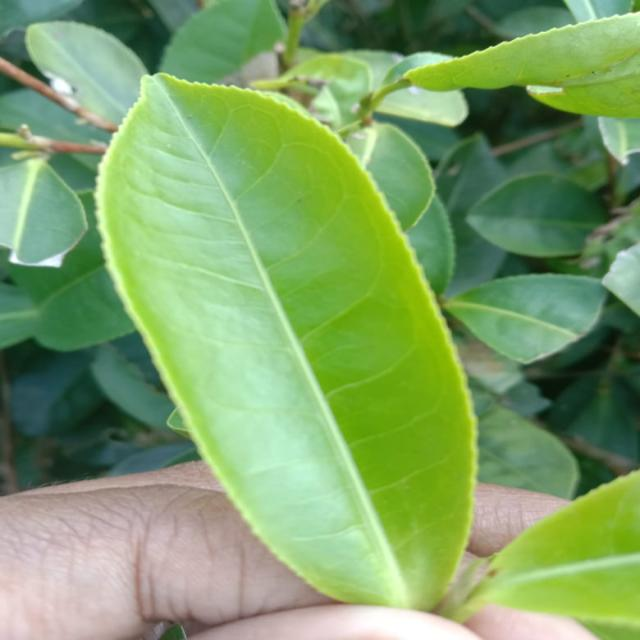Category B(2-4 days): (85, 62, 480, 626)
